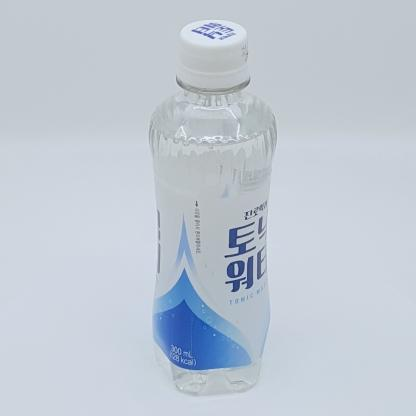----------300ML: (148, 19, 277, 396)
